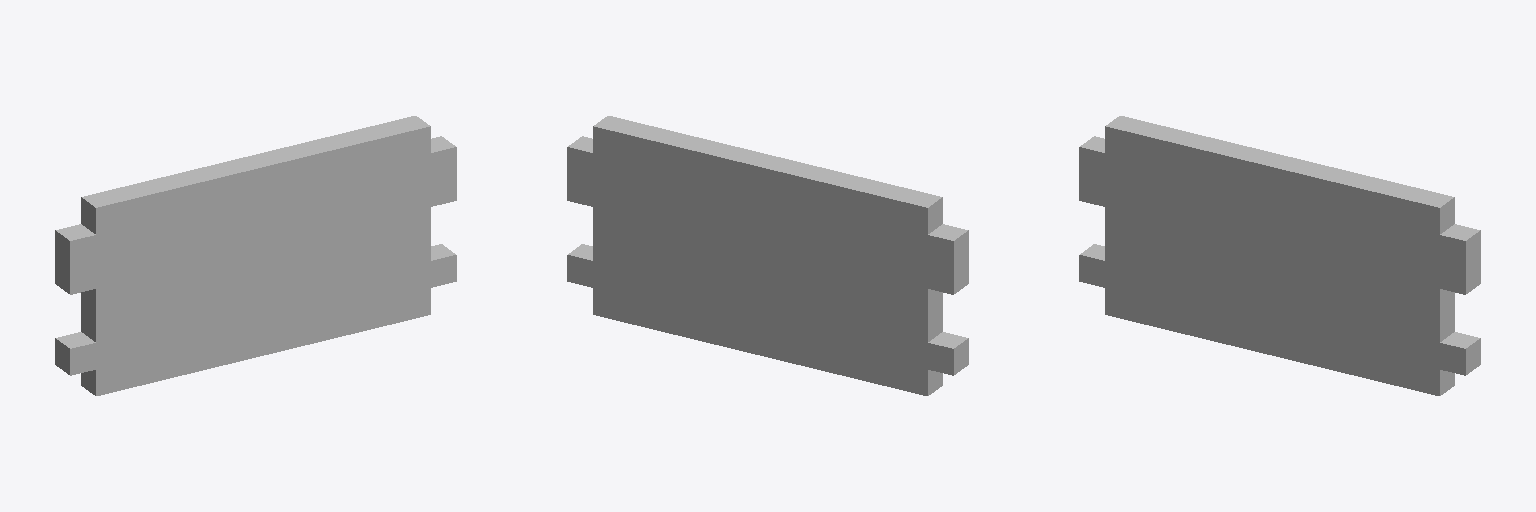
File: заяц помер.obj
3 renders of one model, left to right at view 1: azimuth 30°, elevation 25°; view 2: azimuth 150°, elevation 25°; view 3: azimuth 330°, elevation 25°, orthographic.
Visible parts, largest first — view 1: object 1; view 2: object 1; view 3: object 1.
Boxes of the visible parts, box(x1,y1,x2,y2) form: object 1: box(55, 116, 456, 395); object 1: box(567, 116, 968, 395); object 1: box(1079, 116, 1480, 395).
Bounding box in the file's own units: 1.5 × 0.7 × 0.1.